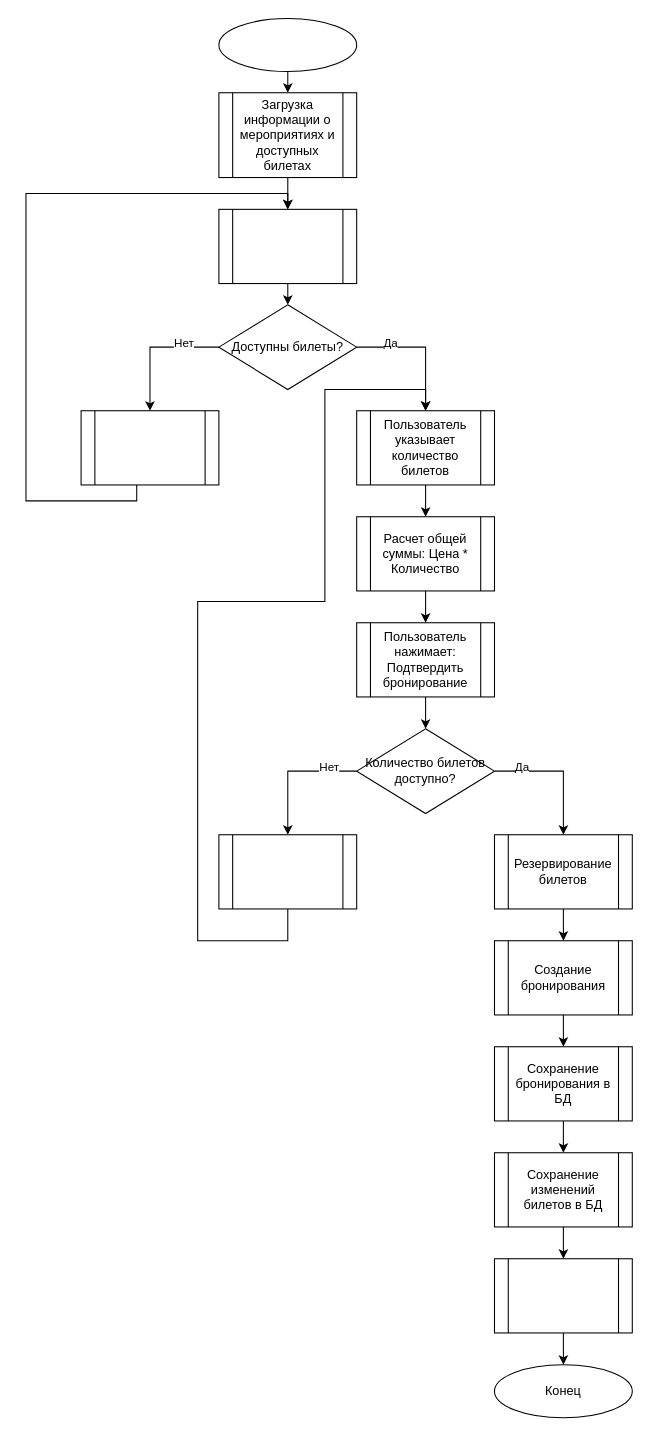
This 651x1436 diagram has some shape labels left out. Here are the shapes that lost their labels. From the top down, the centre of each, then its label:
At point (287, 44): "Начало".
At point (287, 246): "Пользователь выбирает мероприятие".
At point (149, 447): "Отображение ошибки: нет доступных билетов".
At point (287, 871): "Ошибка: Недостаточно билетов Доступно: Х, запрошено: Y".
At point (562, 1295): "Успешное бронирование".
